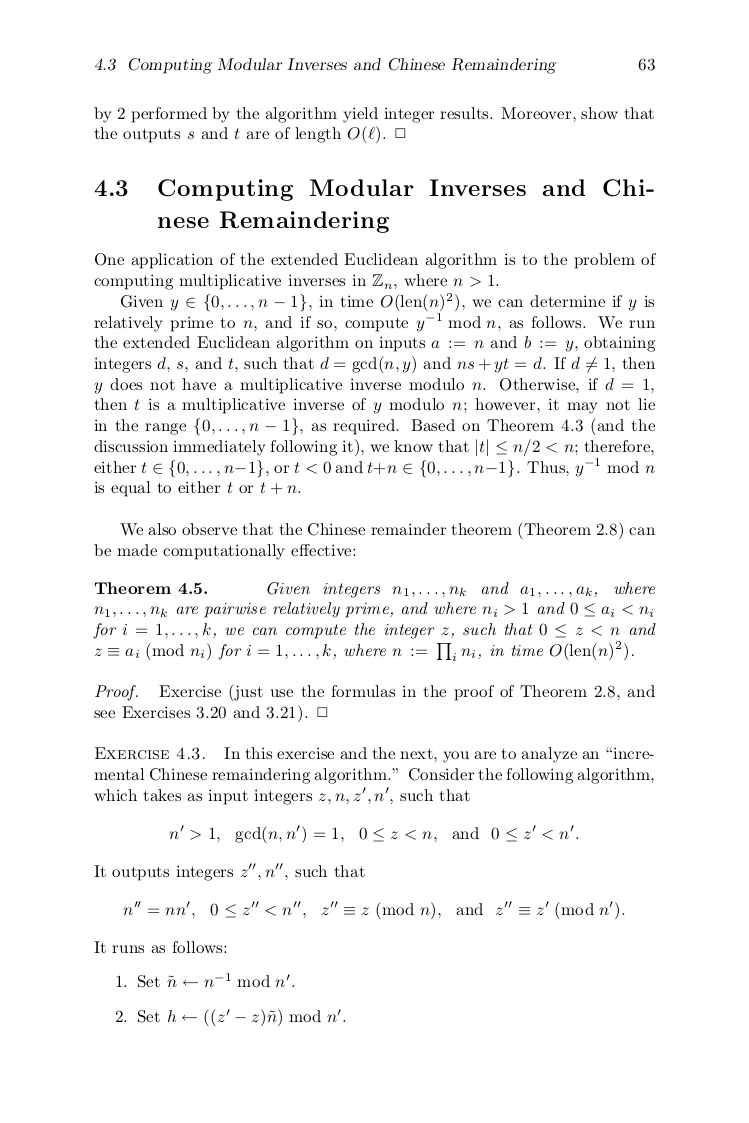formula: (123, 900, 624, 920), (169, 824, 578, 844)
